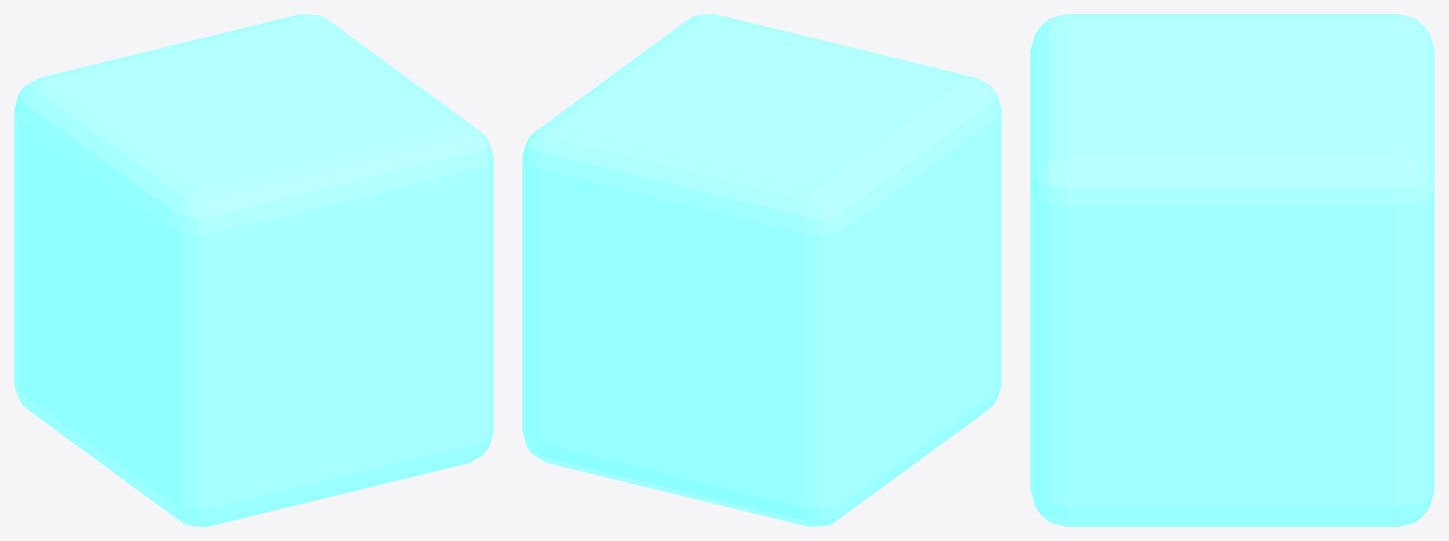
File: buidash.glb
3 views of the same model, side by side, from view 1: azimuth 30°, elevation 25°; view 2: azimuth 150°, elevation 25°; view 3: azimuth 270°, elevation 25° (orthographic). The views are drawn at different scales.
Parts seen in each view (by area): view 1: player; view 2: player; view 3: player.
Part boxes in pixels (left/top/right/bottom): player: left=14, top=14, right=493, bottom=526; player: left=522, top=14, right=1001, bottom=526; player: left=1030, top=14, right=1434, bottom=526.
Bounding box in the file's own units: 1 × 1 × 1.
